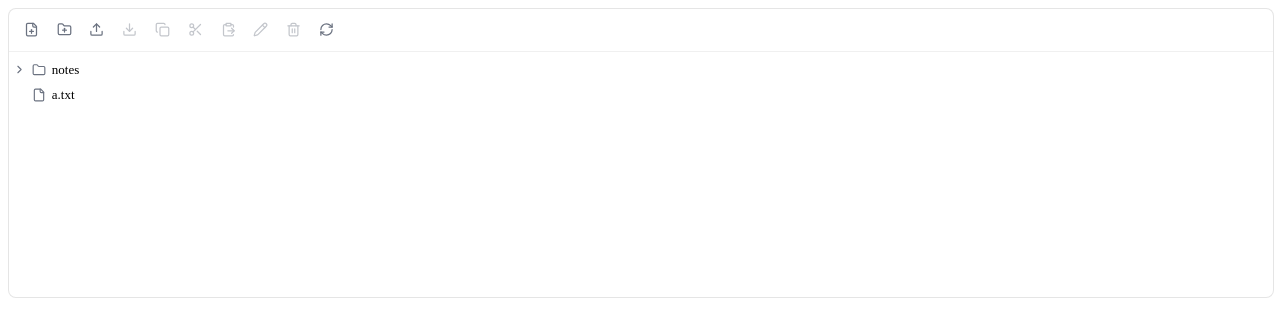
Test case: BUG-009 — the SourceSet explorer can clear its selection › E4 returns the selection-only toolbar actions to disabled
Click the text "notes".
click(66, 70)  # box [52,62,79,78]
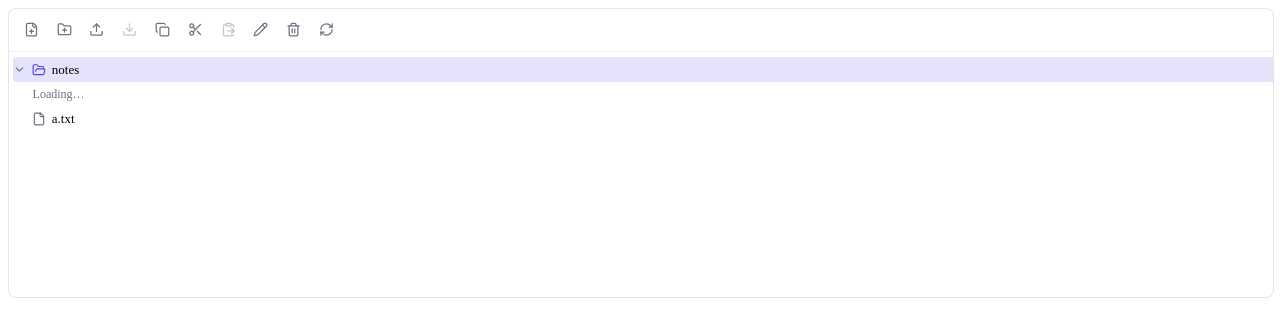
Expected: the button named "Rename" is enabled, [246,15,276,45]
Click the element showing "notes Loading… a.txt".
click(645, 70)  # box [13,57,1277,126]
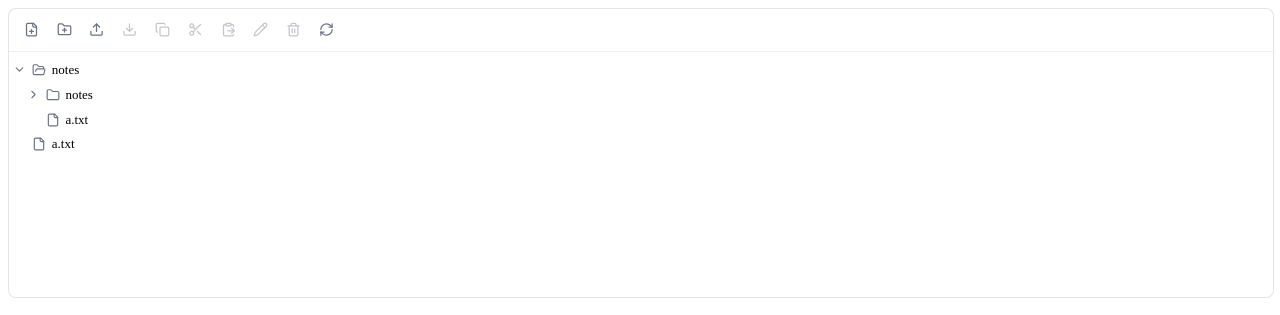
Expected: the button named "Copy" is disabled, [147,15,178,45]
Expected: the button named "Cut" is disabled, [180,15,210,45]
Expected: the button named "Rename" is disabled, [246,15,276,45]
